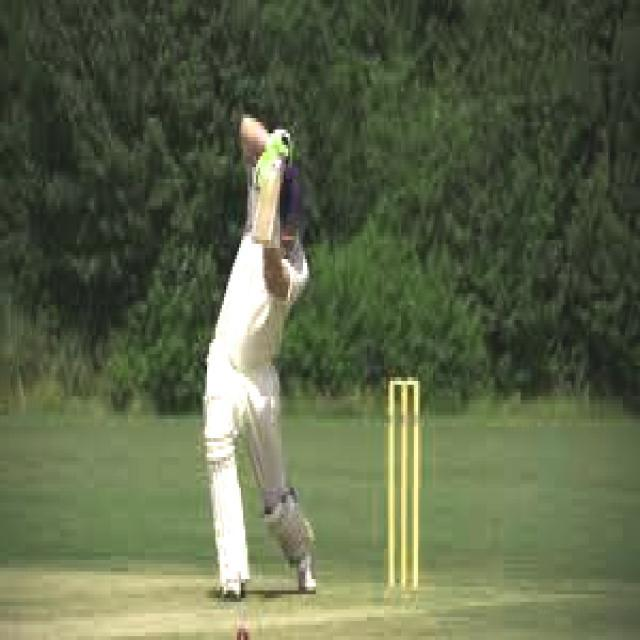bat: (245, 150, 281, 248)
toe: (250, 231, 276, 242)
